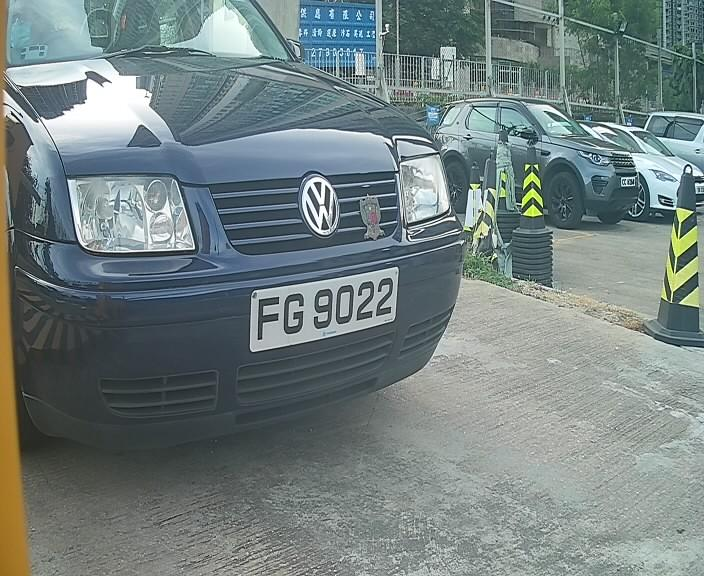License Plate: (249, 263, 406, 350)
